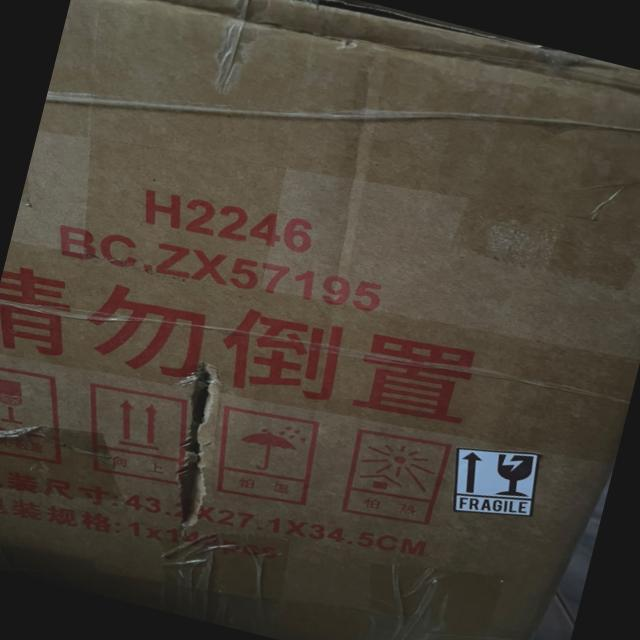carton_box: (0, 0, 640, 640)
fragile_label: (0, 352, 86, 481), (444, 478, 553, 536), (482, 432, 551, 503)
keep_dry_label: (201, 398, 341, 522)
package_damage: (73, 0, 640, 143), (124, 340, 278, 550)
protect_from_heat_label: (340, 426, 458, 534)
this_side_up_label: (66, 371, 208, 503), (448, 442, 502, 508)
